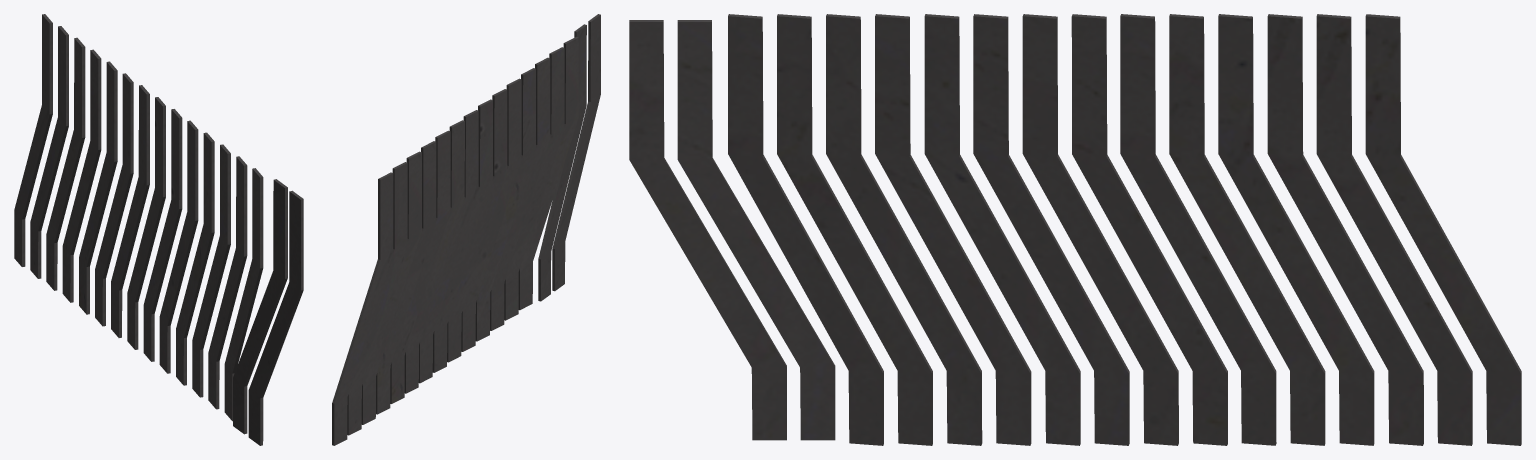
The model's file is SM_EN_1002_chuangcang04.FBX.
3 renders of one model, left to right at view 1: azimuth 30°, elevation 25°; view 2: azimuth 150°, elevation 25°; view 3: azimuth 270°, elevation 25°, orthographic. The views are drawn at different scales.
Visible parts, largest first — view 1: SM_EN_1002_chuangcang04; view 2: SM_EN_1002_chuangcang04; view 3: SM_EN_1002_chuangcang04.
Part boxes in pixels (box(x1,y1,x2,y2)): SM_EN_1002_chuangcang04: box(14, 14, 303, 445); SM_EN_1002_chuangcang04: box(332, 14, 600, 445); SM_EN_1002_chuangcang04: box(629, 14, 1521, 445).
Size of the model in its own units: 9.01 by 127 by 245.
